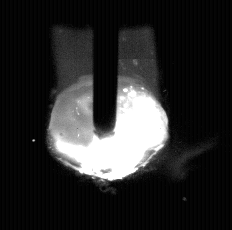arame: (94, 0, 117, 139)
poca: (47, 0, 170, 230)
